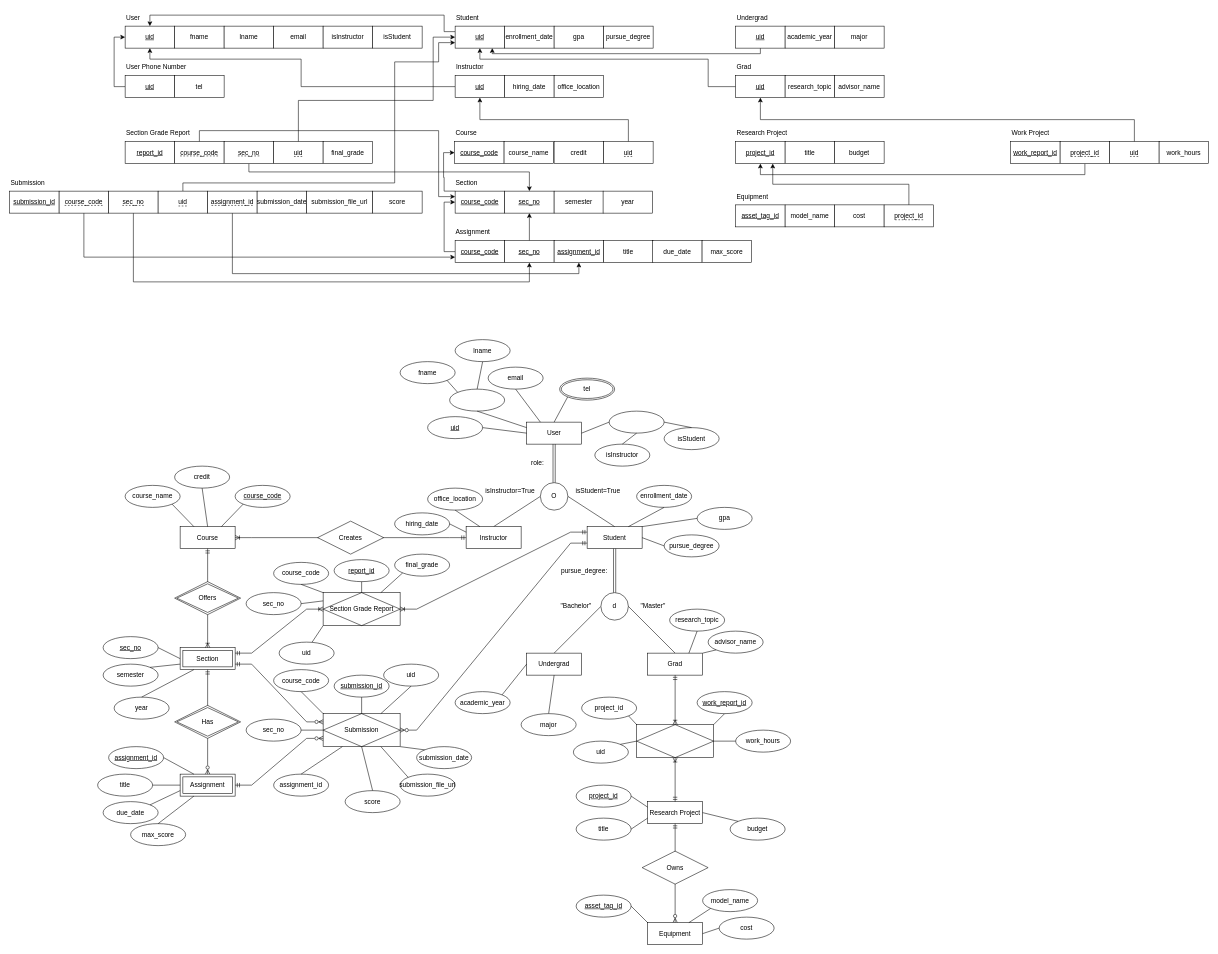
This 1218x954 diagram has some shape labels left out. Here are the shapes that lost their labels. From the top down, the box of each, then its label:
(449, 389, 505, 411): name
(609, 411, 664, 433): role
(636, 724, 714, 758): Work Report
